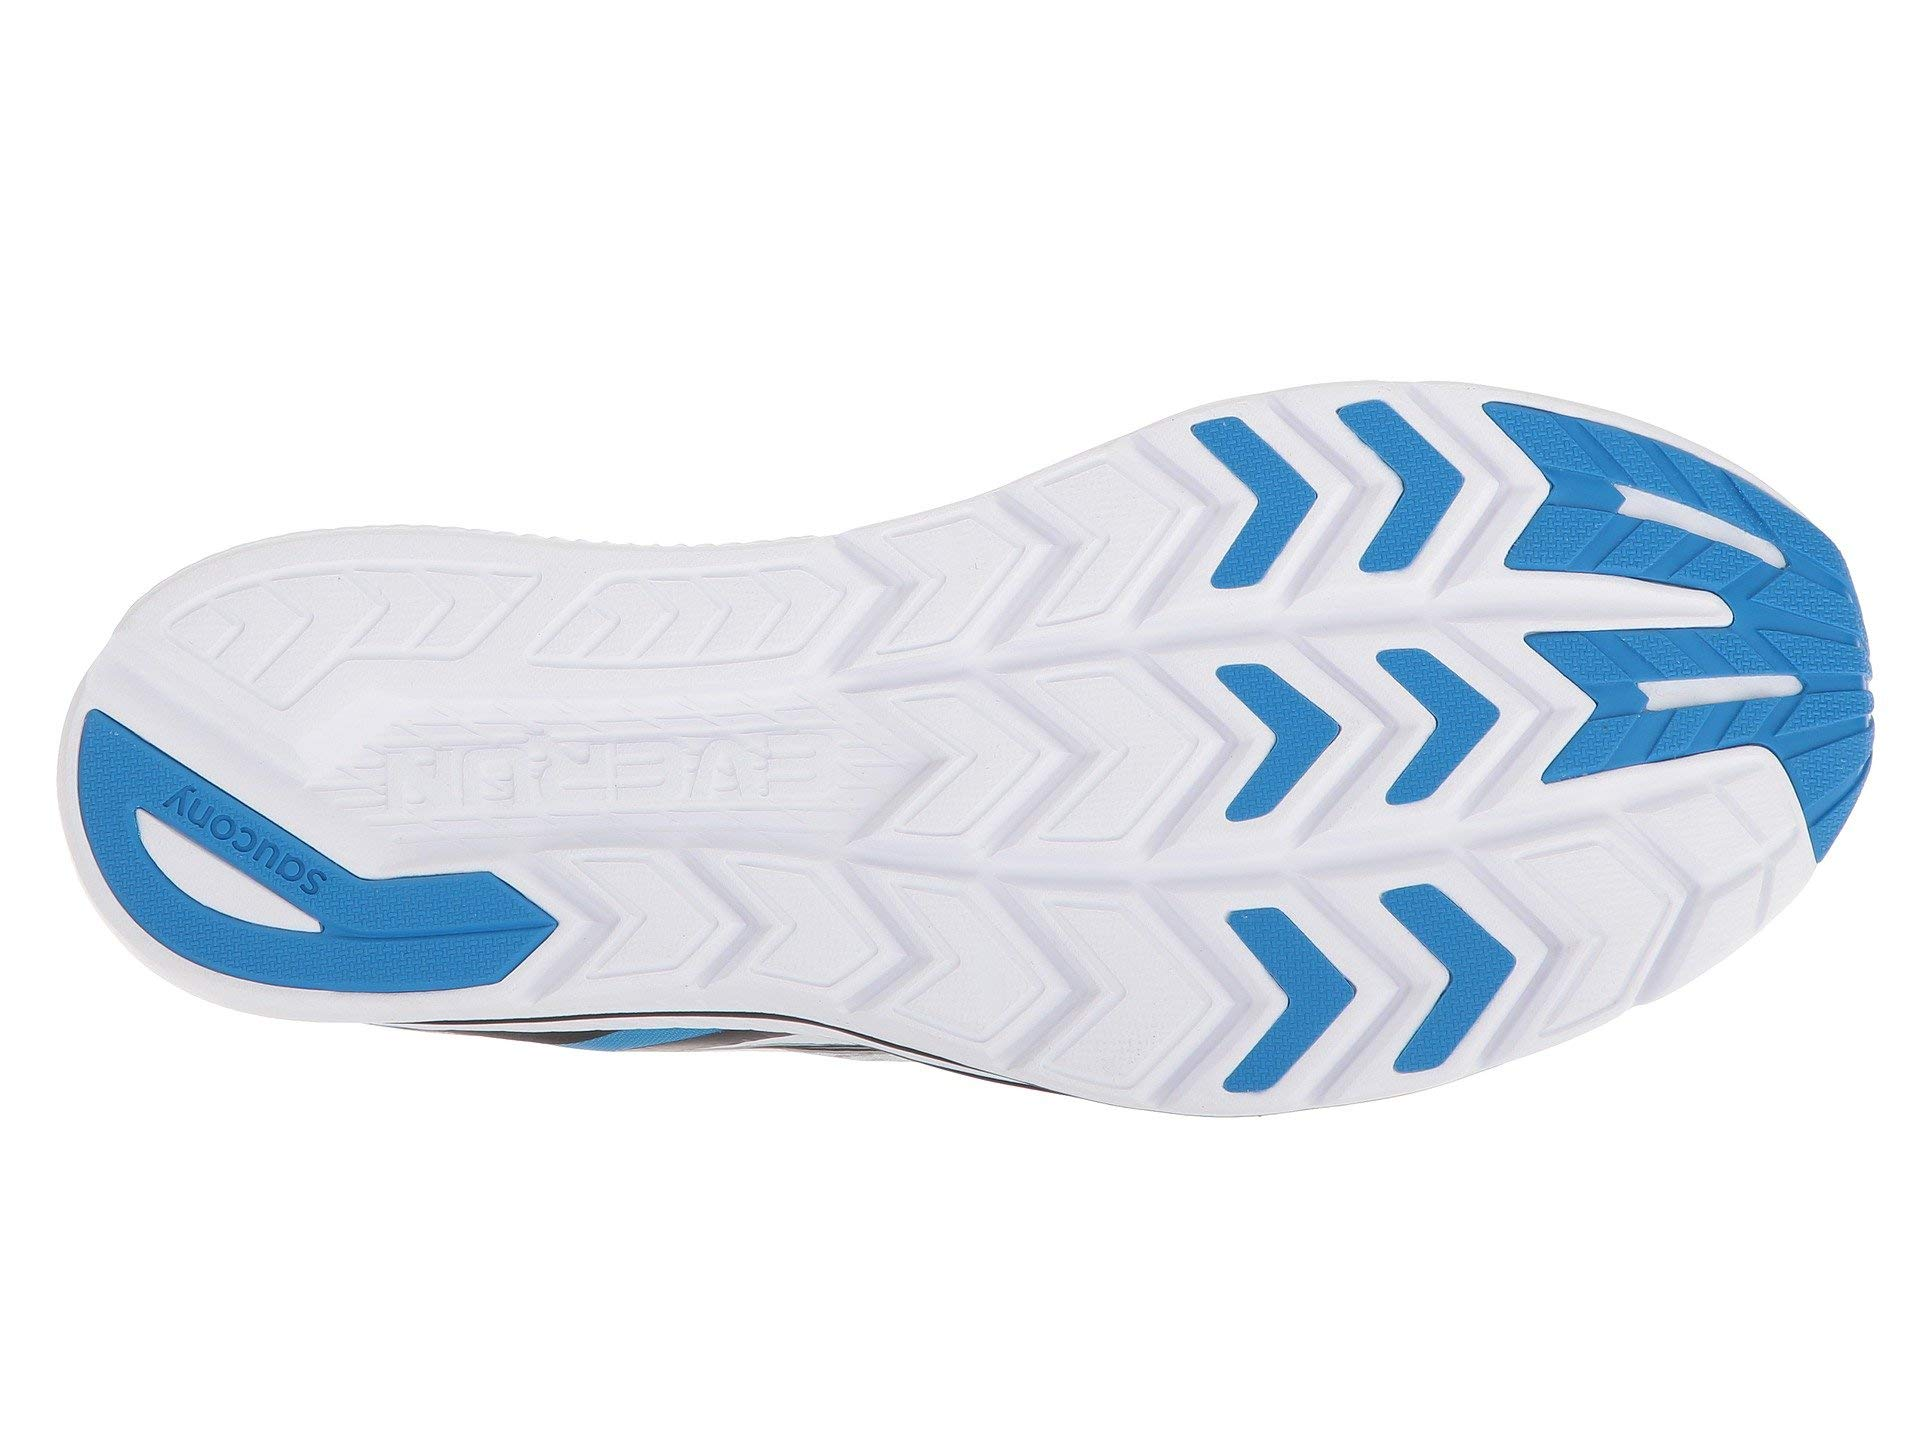chevron: (924, 549, 1418, 1063), (1480, 604, 1799, 932)
quad: (1480, 604, 1799, 932)
